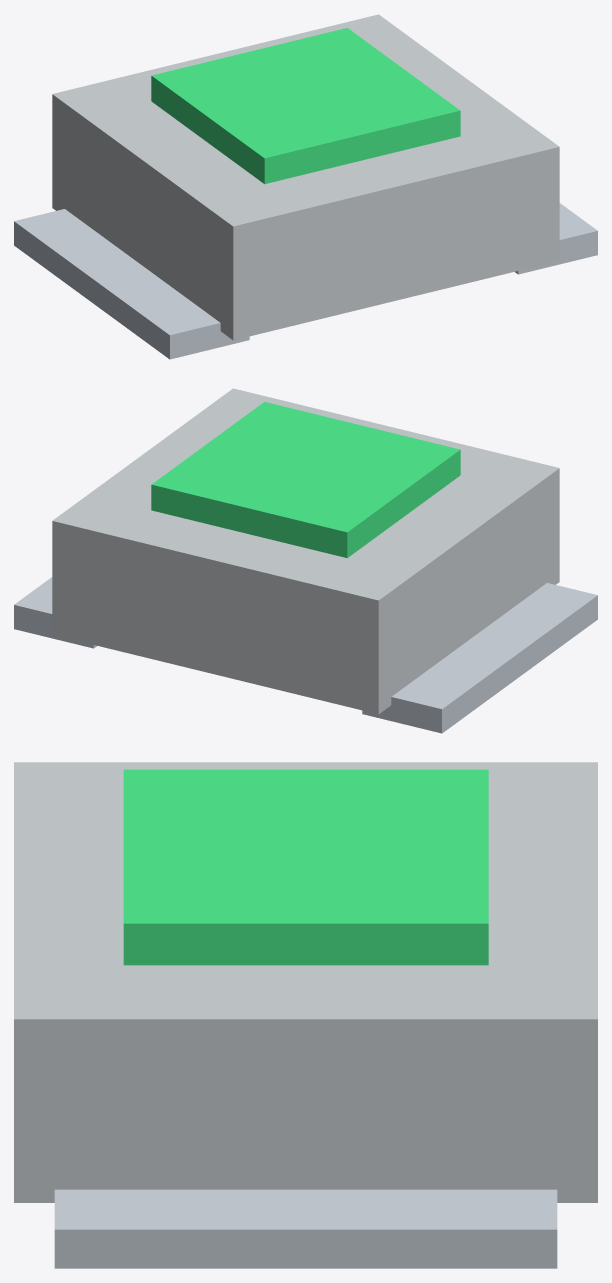
The model's file is 42_L96_LED1_LED.fbx.
3 renders of one model, top to bottom at view 1: azimuth 30°, elevation 25°; view 2: azimuth 150°, elevation 25°; view 3: azimuth 270°, elevation 25°, orthographic. The views are drawn at different scales.
Visible parts, largest first — view 1: LED1_000_SMD_LED_Reflector, LED1_001_Green_Emitter, LED1_002_Solder_Contact, LED1_003_Solder_Contact; view 2: LED1_000_SMD_LED_Reflector, LED1_001_Green_Emitter, LED1_002_Solder_Contact, LED1_003_Solder_Contact; view 3: LED1_000_SMD_LED_Reflector, LED1_001_Green_Emitter, LED1_003_Solder_Contact.
Part boxes in pixels (box(x1,y1,x2,y2)): LED1_000_SMD_LED_Reflector: box(52, 14, 559, 340); LED1_001_Green_Emitter: box(151, 28, 460, 184); LED1_002_Solder_Contact: box(14, 209, 249, 359); LED1_003_Solder_Contact: box(515, 203, 597, 274); LED1_000_SMD_LED_Reflector: box(52, 388, 559, 714); LED1_001_Green_Emitter: box(151, 402, 460, 558); LED1_002_Solder_Contact: box(362, 583, 597, 733); LED1_003_Solder_Contact: box(14, 577, 96, 648); LED1_000_SMD_LED_Reflector: box(14, 762, 597, 1202); LED1_001_Green_Emitter: box(123, 769, 488, 965); LED1_003_Solder_Contact: box(54, 1189, 557, 1268).
Size of the model in its own units: 0.295 by 0.1035 by 0.216.
